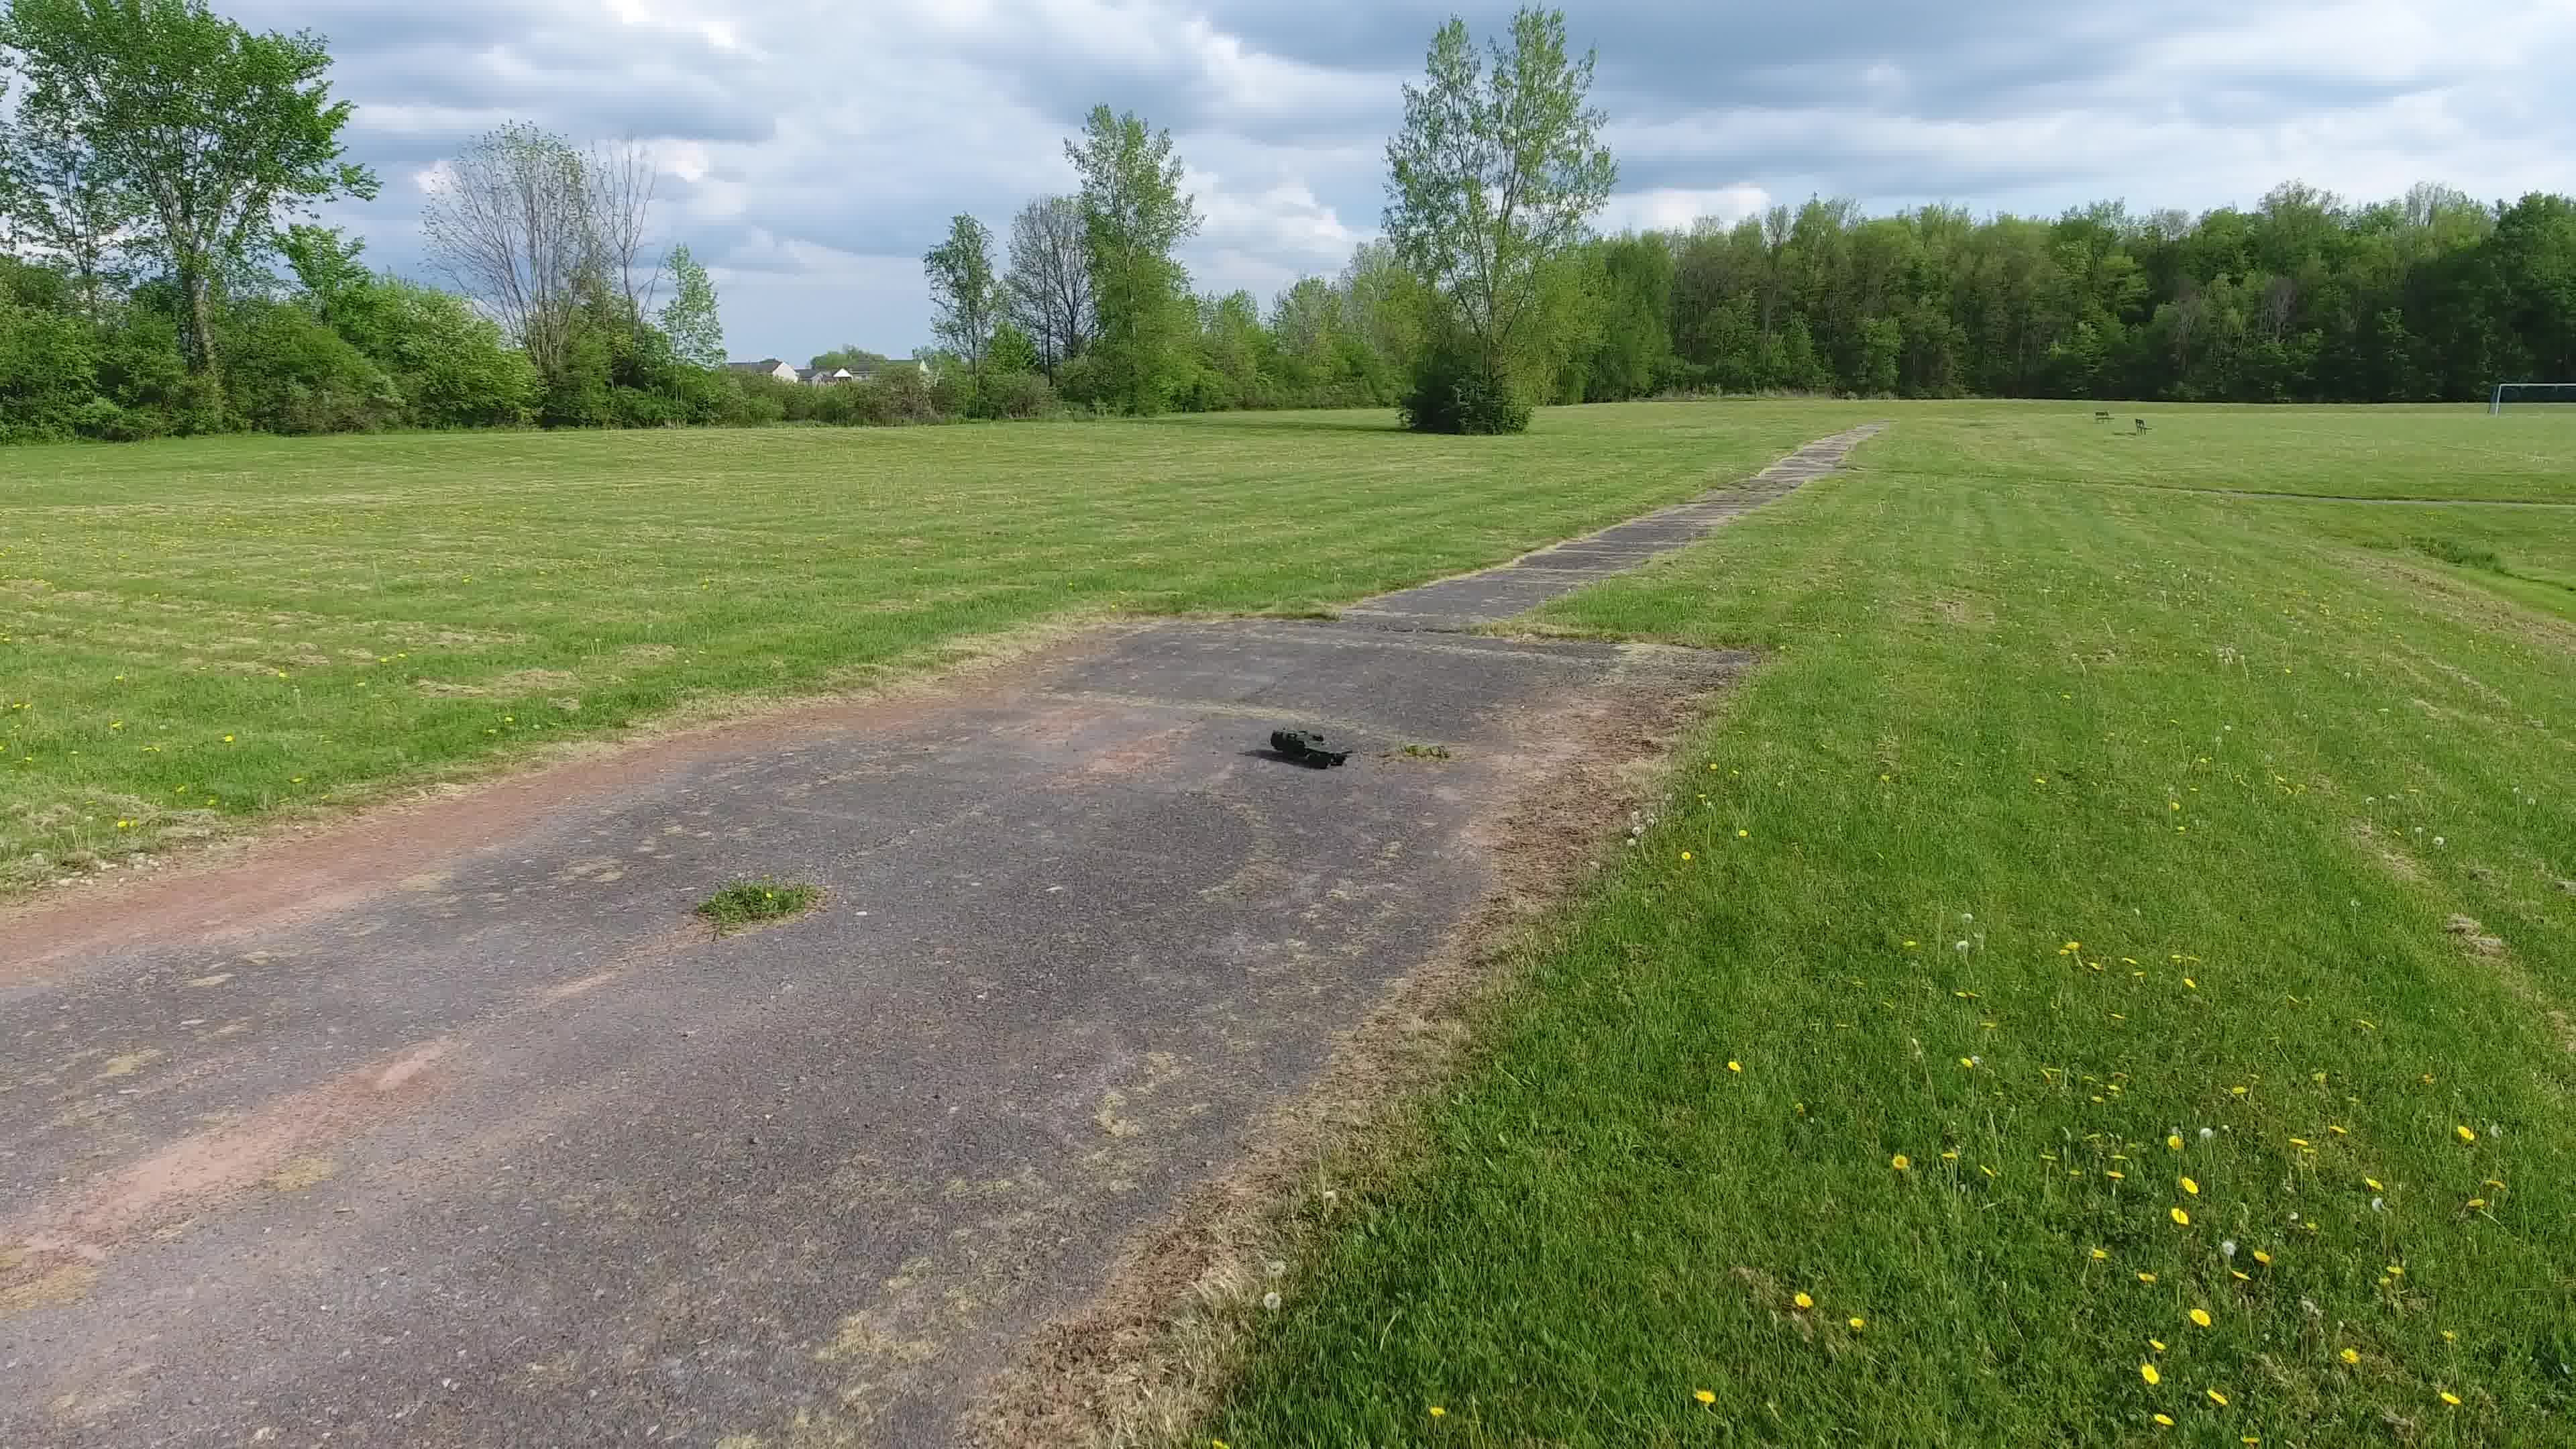transporter9: (1269, 727, 1355, 771)
